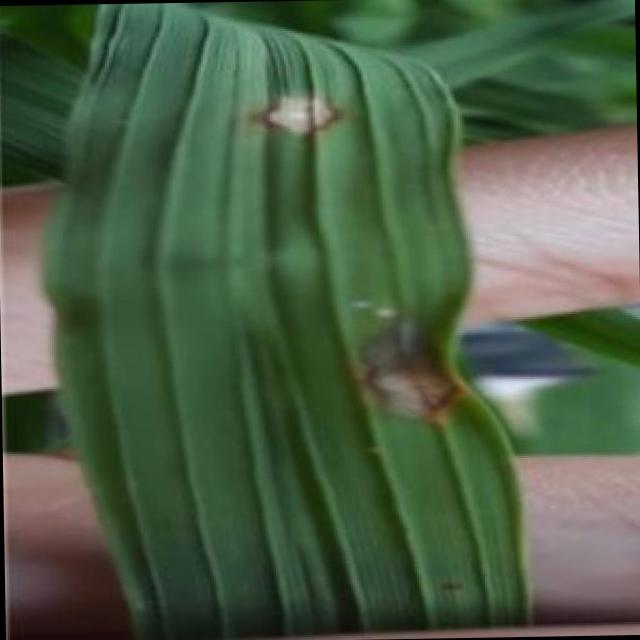Rice_Blast: (302, 286, 463, 444), (218, 59, 360, 170)
